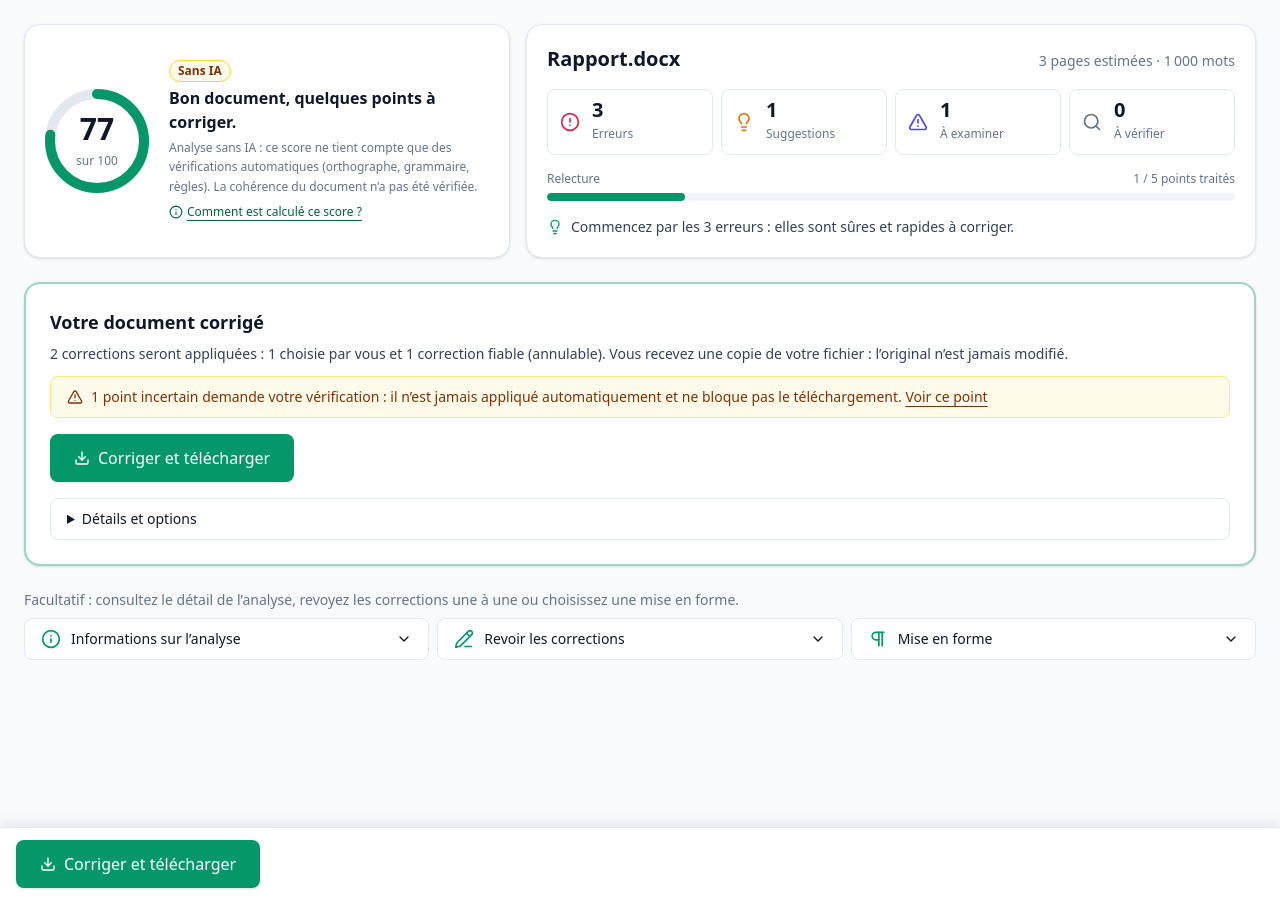
Test: Partie supérieure et actions › bouton principal hors de l’écran (mobile) : repris en bas de l’écran, même action, une seule demande
Check: the button "Corriger et télécharger" below "1 point incertain demande" is enabled, box top-left (50, 434), bottom-right (294, 482)
What coordinates should you click on to do the following:
click the 2nd button "Corriger et télécharger"
I would click on:
 (138, 864)
Its box is top-left (16, 840), bottom-right (260, 888).
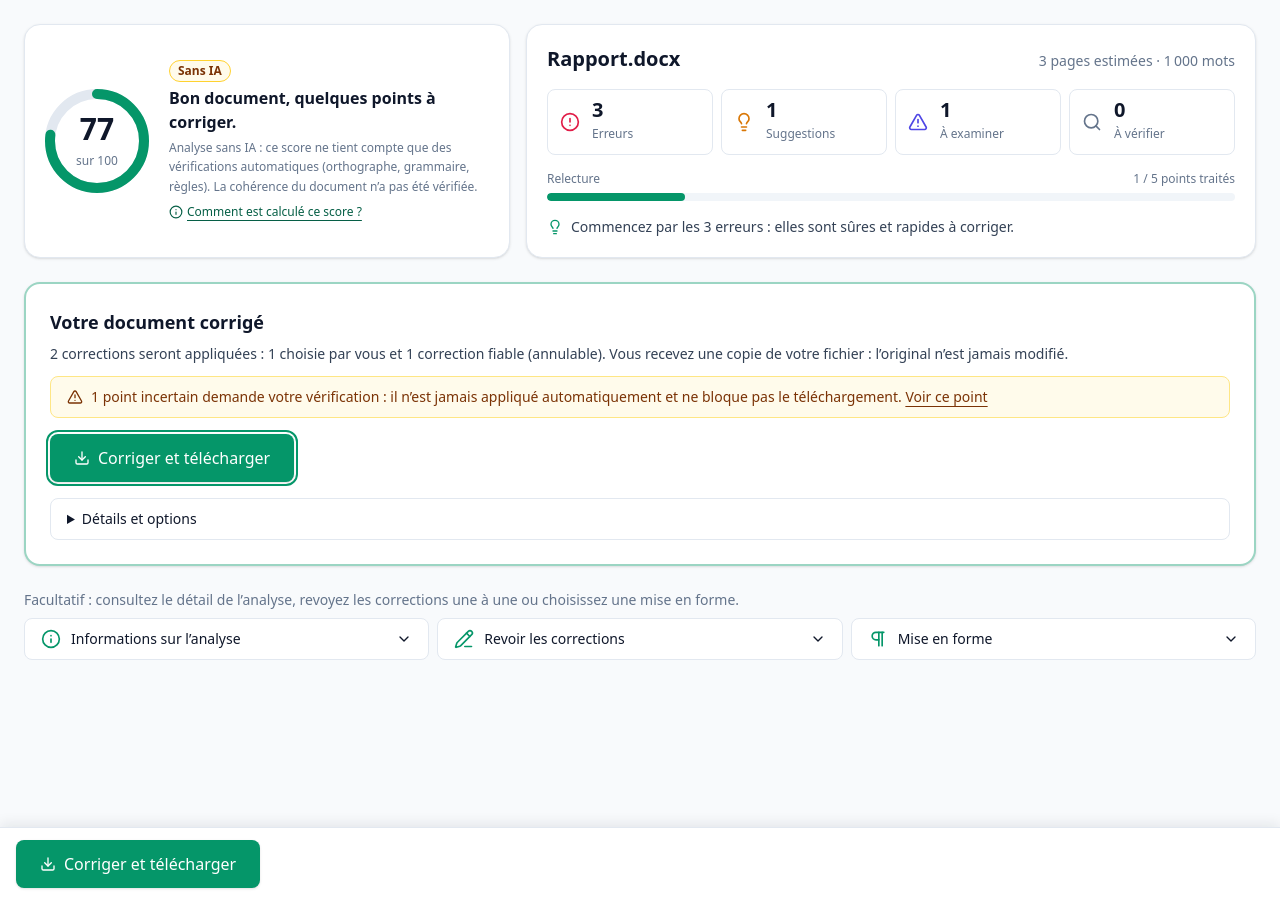
What coordinates should you click on to do the following:
click the 2nd button "Corriger et télécharger"
I would click on:
 (138, 864)
Its box is top-left (16, 840), bottom-right (260, 888).
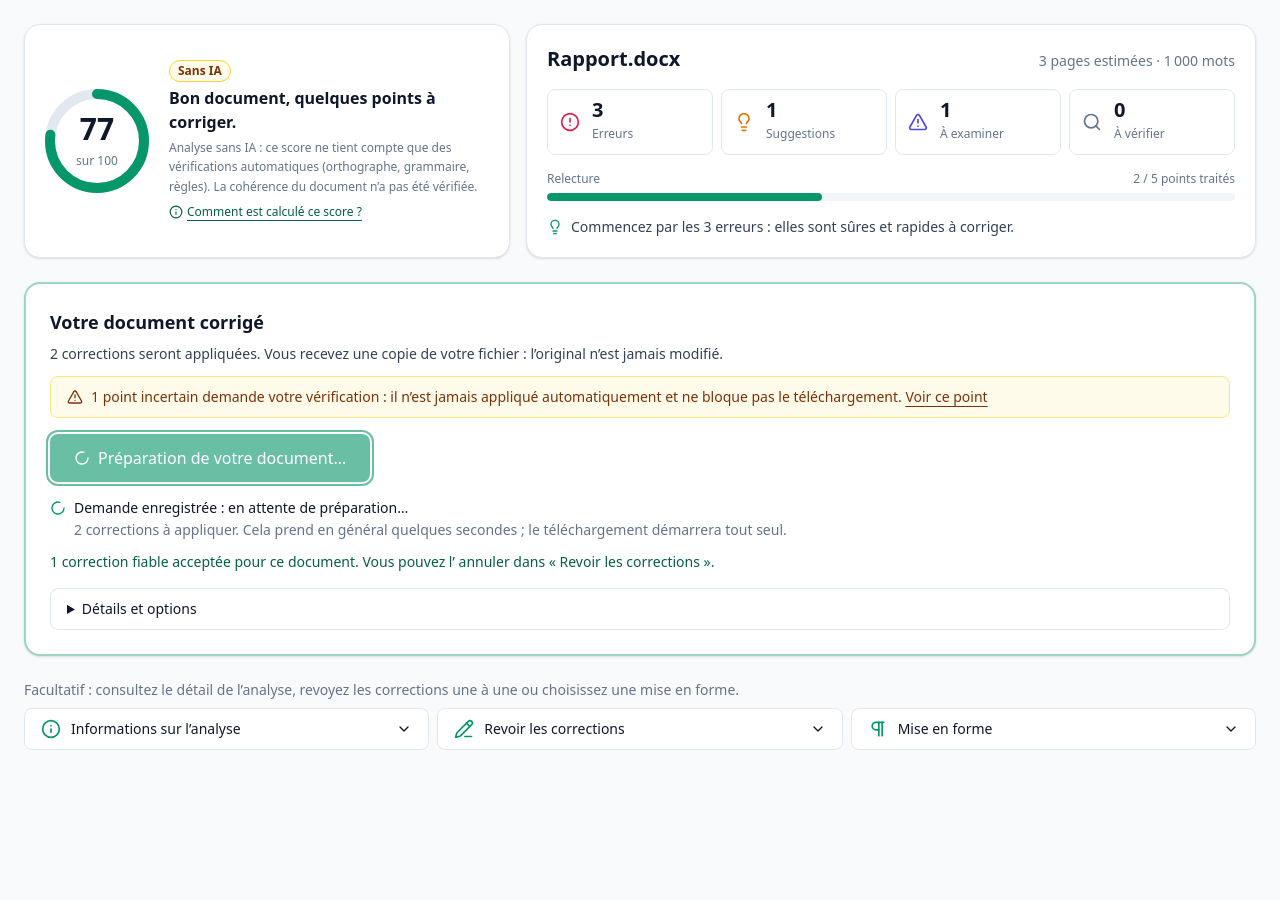
Check: the element with test id "barre-action-principale" is gone
